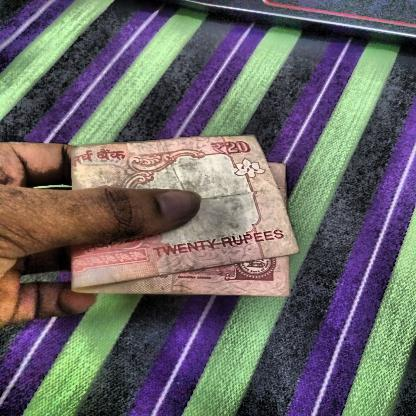Rs20: (206, 138, 257, 158)
